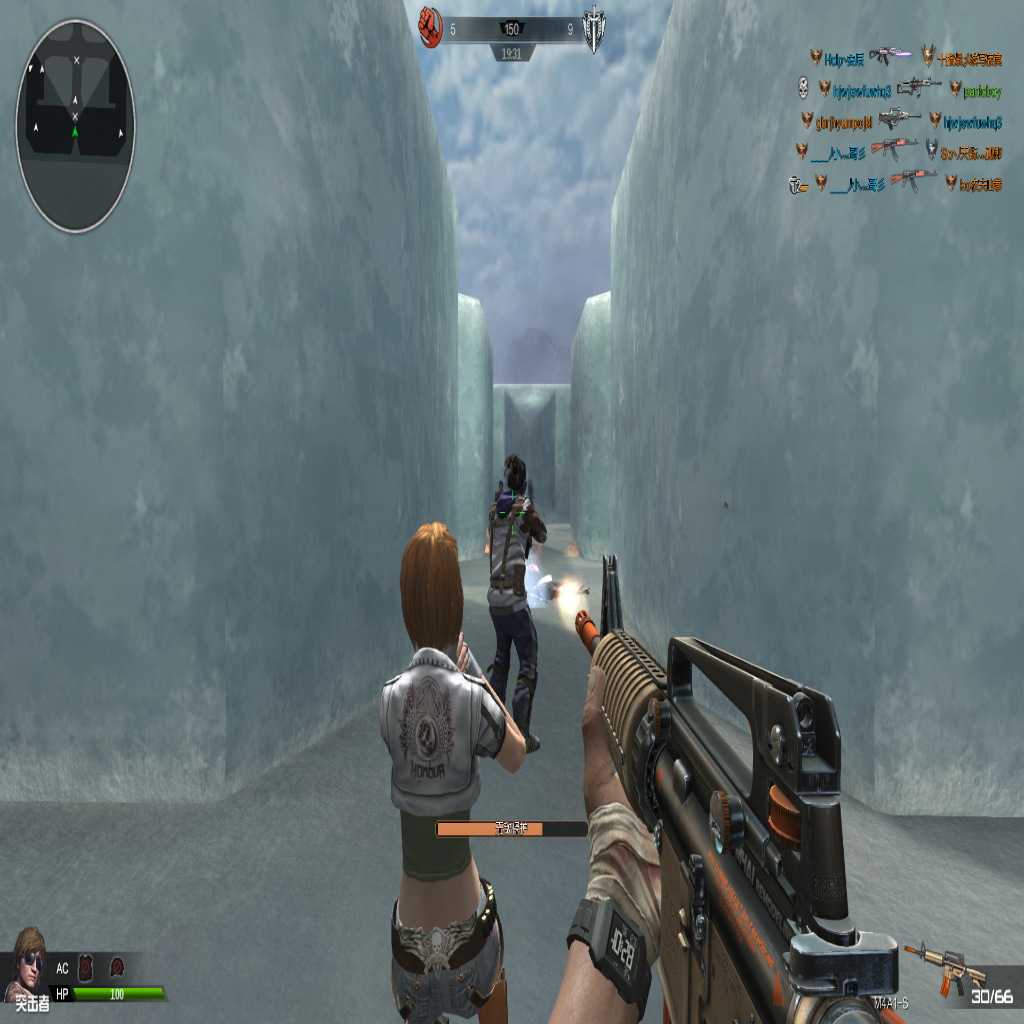tt: (485, 448, 548, 734)
